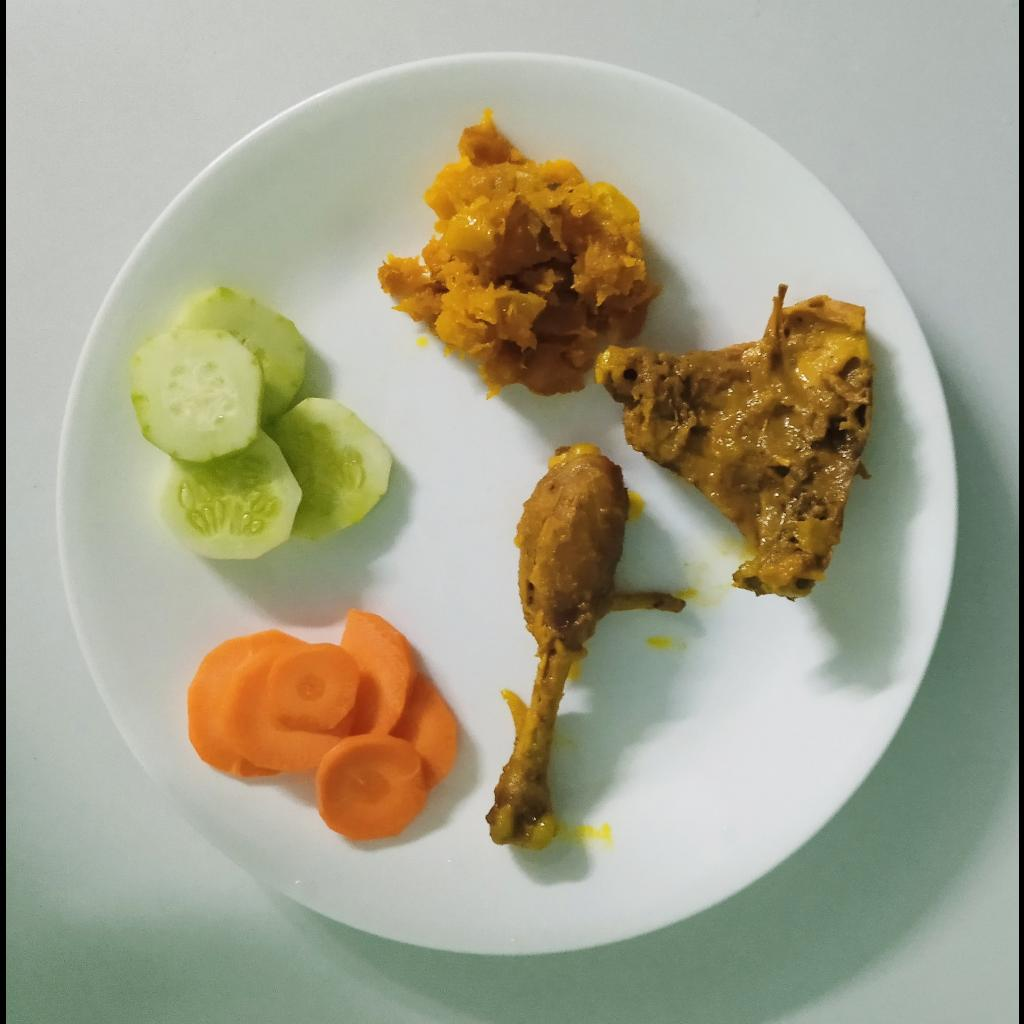carrot: (179, 610, 459, 845)
chicken: (597, 281, 871, 598), (483, 447, 692, 850)
cucumber: (126, 281, 393, 565)
kumra-vaji: (373, 119, 662, 396)
